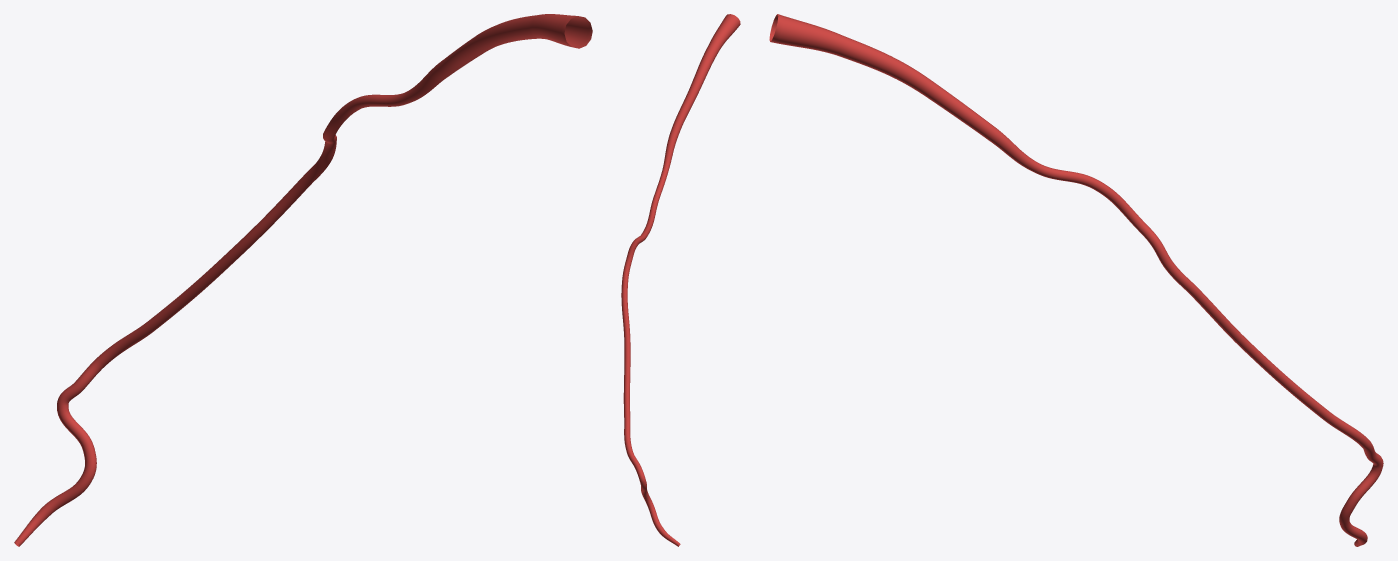
The picture shows the model from 3 angles, left to right: view 1: azimuth 30°, elevation 25°; view 2: azimuth 150°, elevation 25°; view 3: azimuth 270°, elevation 25°; orthographic projection. The views are drawn at different scales.
Parts seen in each view (by area): view 1: 左侧下牙槽动脉; view 2: 左侧下牙槽动脉; view 3: 左侧下牙槽动脉.
Boxes of the visible parts, <box> form: 左侧下牙槽动脉: <box>14,14,592,546</box>; 左侧下牙槽动脉: <box>621,14,740,546</box>; 左侧下牙槽动脉: <box>769,14,1383,546</box>.
Bounding box in the file's own units: 0.0355 × 0.0986 × 0.0871.
